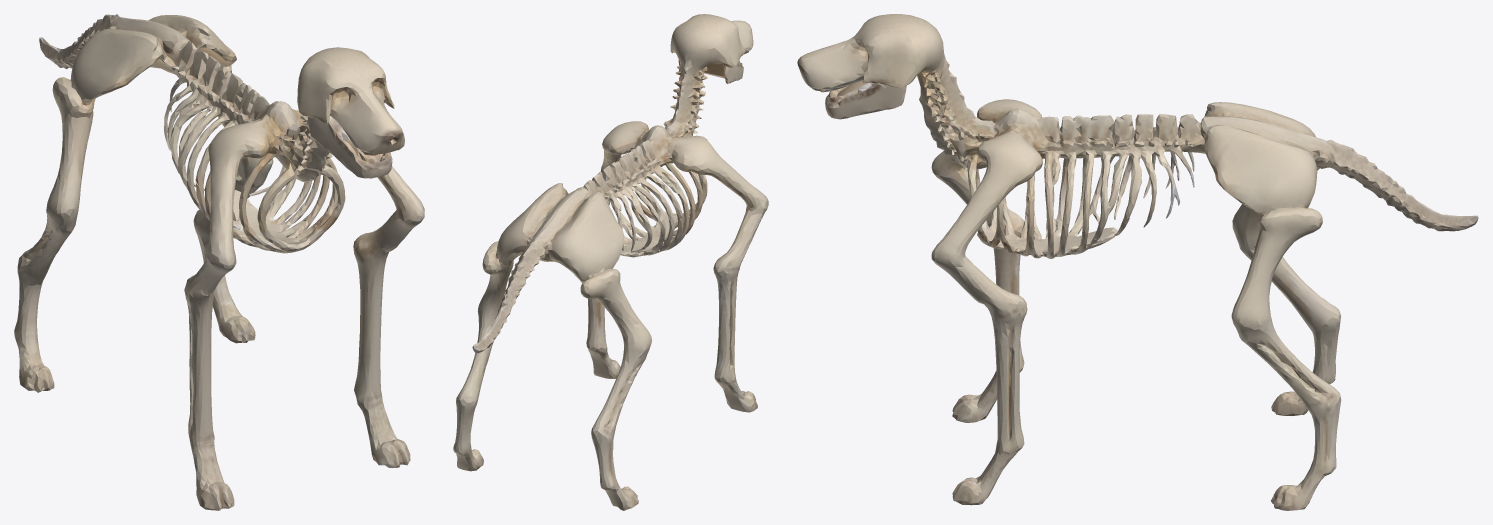
The model's file is dog_skeleton.glb.
3 renders of one model, left to right at view 1: azimuth 30°, elevation 25°; view 2: azimuth 150°, elevation 25°; view 3: azimuth 270°, elevation 25°, orthographic. The views are drawn at different scales.
Parts seen in each view (by area): view 1: model; view 2: model; view 3: model.
Part boxes in pixels (x1,y1,x2,y2): model: (14, 14, 424, 510); model: (453, 14, 768, 510); model: (797, 14, 1478, 510).
Size of the model in its own units: 0.7068 by 1.35 by 1.9.
Materials: 1 (1 with a texture image).
